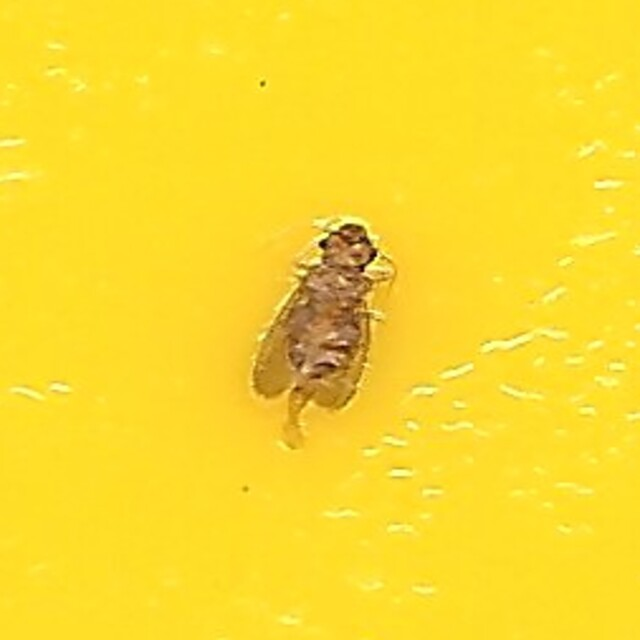Hemiptera: (253, 221, 387, 419)
